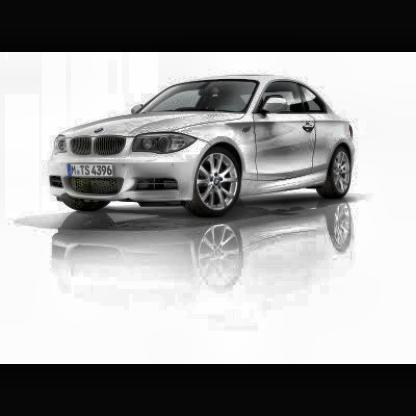BMW 1 Series Coupe 2012: (33, 55, 372, 235)
